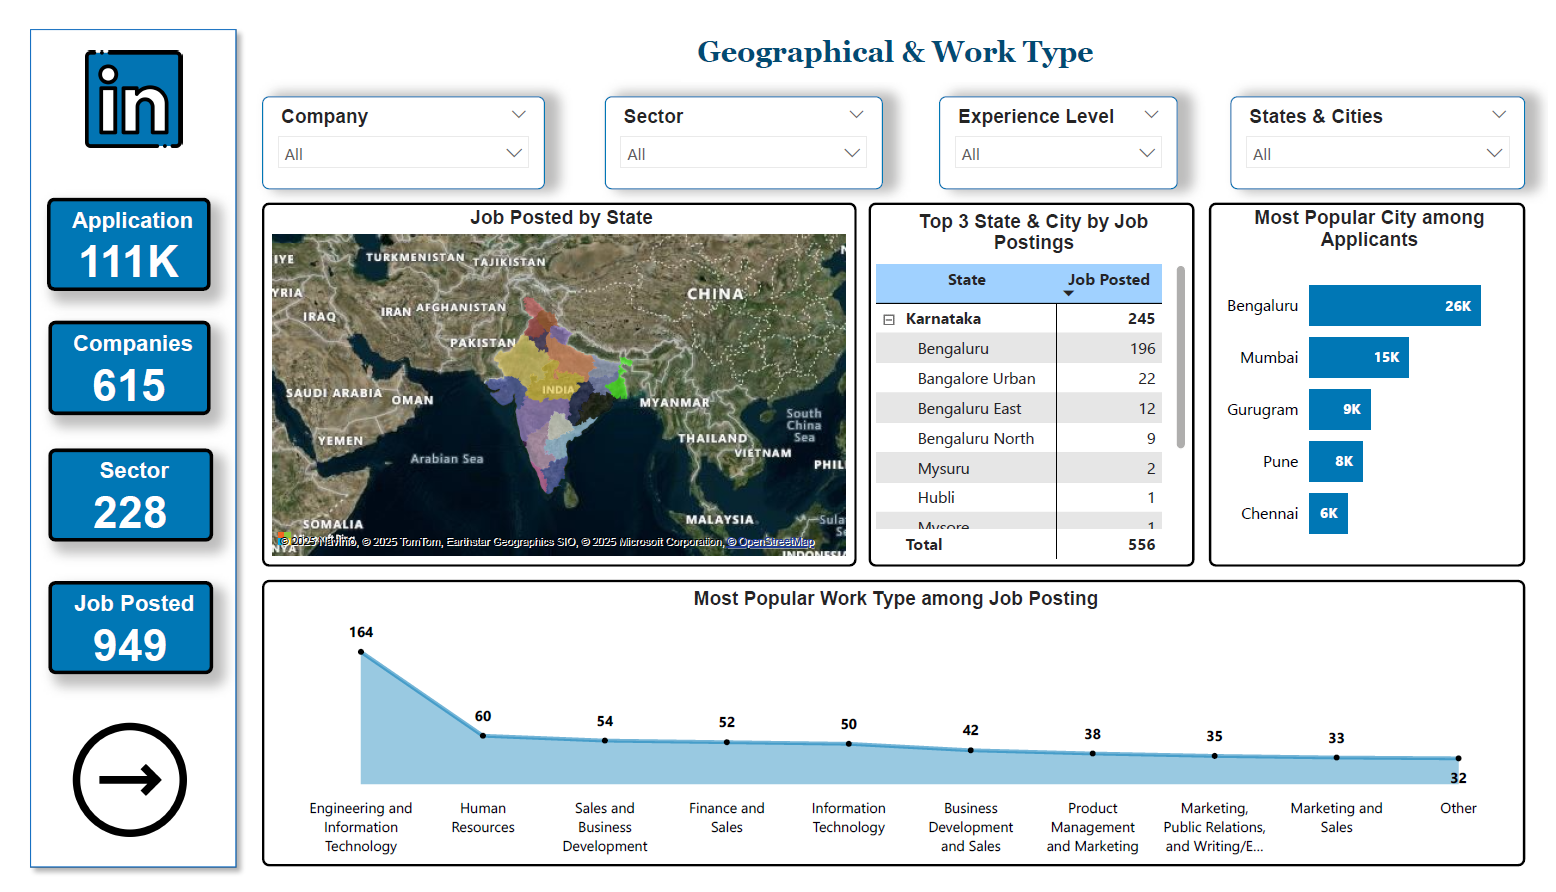

Layout of this report page (visuals, bound fields, positions):
{"tool":"powerbi","page":{"name":"2. Geographical & Work Type","canvas":[1280,720],"ordinal":2},"visuals":[{"type":"shape","box":[0,0,190.7,720.4],"z":0},{"type":"image","box":[35.7,580.4,112.5,115.3],"z":1000},{"type":"filledMap","fields":{"Category":["LinkedIn Jobs Data.State"]},"box":[202.5,153.8,498.8,305],"z":2000},{"type":"clusteredBarChart","title":"Most Popular City among Applicants","fields":{"Y":["Sum(LinkedIn Jobs Data.Applicants)"],"Category":["LinkedIn Jobs Data.City"]},"box":[996.2,153.8,265,305],"z":3000},{"type":"pivotTable","title":"Top 3 State & City by Job Postings","fields":{"Rows":["LinkedIn Jobs Data.State","LinkedIn Jobs Data.City"],"Values":["MeasureTable.Job Posted"]},"box":[711.2,153.8,272.5,305],"z":4000},{"type":"lineChart","title":"Most Popular Work Type among Job Posting","fields":{"Category":["LinkedIn Jobs Data.Work Type"],"Y":["MeasureTable.Job Posted"]},"box":[202.5,470,1058.8,240],"z":5000},{"type":"slicer","fields":{"Values":["LinkedIn Jobs Data.Company Name"]},"box":[202.5,65,237.5,77.5],"z":6000},{"type":"slicer","fields":{"Values":["LinkedIn Jobs Data.Sector"]},"box":[490,65,232.5,77.5],"z":7000},{"type":"slicer","fields":{"Values":["LinkedIn Jobs Data.State","LinkedIn Jobs Data.City"]},"box":[1013.8,65,247.5,77.5],"z":8000},{"type":"slicer","fields":{"Values":["LinkedIn Jobs Data.Experience Level"]},"box":[770,65,200,77.5],"z":9000},{"type":"card","title":"Application","fields":{"Values":["Sum(LinkedIn Jobs Data.applicationsCount)"]},"box":[22.9,149.6,137.5,78.4],"z":10000},{"type":"card","title":"Sector","fields":{"Values":["MeasureTable.Sector"]},"box":[24.1,359.5,137.5,78.4],"z":11000},{"type":"card","title":"Job Posted","fields":{"Values":["CountNonNull(LinkedIn Jobs Data.Job Posted Time)"]},"box":[24.1,470.5,137.5,78.4],"z":12000},{"type":"card","title":"Companies","fields":{"Values":["MeasureTable.No of Companies"]},"box":[24.1,253.4,136.3,78.4],"z":13000},{"type":"image","box":[45.8,21.7,97.7,91.7],"z":14000},{"type":"textbox","box":[553.8,8.8,358.8,43.8],"z":15000}]}

Visuals, with their boxes in screenshot pixels (x1, y1, x2, y2), scaled from the page's 1280x720 canvas onto the 1556x892 screenshot:
shape: 0,0,232,891
image: 43,719,180,862
filledMap - LinkedIn Jobs Data.State: 246,191,853,568
"Most Popular City among Applicants" clusteredBarChart: 1211,191,1533,568
"Top 3 State & City by Job Postings" pivotTable: 865,191,1196,568
"Most Popular Work Type among Job Posting" lineChart: 246,582,1533,880
slicer - LinkedIn Jobs Data.Company Name: 246,81,535,177
slicer - LinkedIn Jobs Data.Sector: 596,81,878,177
slicer - LinkedIn Jobs Data.State x LinkedIn Jobs Data.City: 1232,81,1533,177
slicer - LinkedIn Jobs Data.Experience Level: 936,81,1179,177
"Application" card: 28,185,195,282
"Sector" card: 29,445,196,543
"Job Posted" card: 29,583,196,680
"Companies" card: 29,314,195,411
image: 56,27,174,140
textbox: 673,11,1109,65
